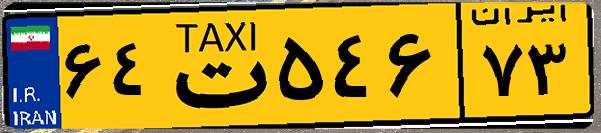3: (525, 38, 570, 115)
4: (330, 28, 385, 110), (110, 28, 158, 98)
5: (270, 28, 330, 110)
6: (385, 28, 445, 110), (57, 26, 110, 100)
7: (475, 38, 525, 113)
ت: (158, 12, 270, 120)
